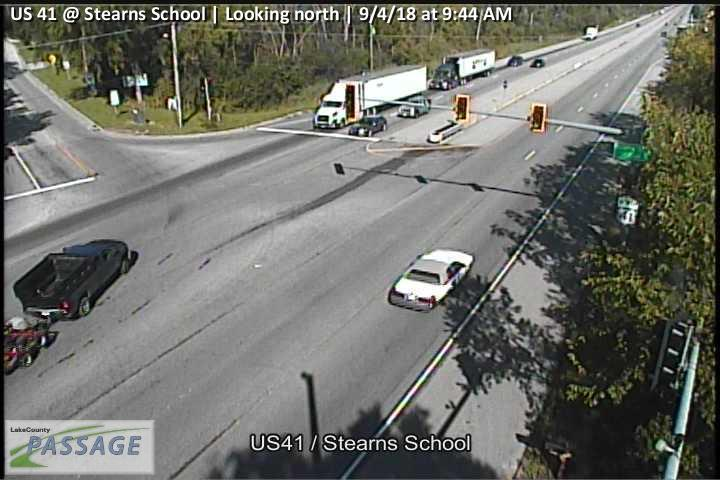SUV: (348, 114, 388, 137), (396, 94, 431, 119), (508, 54, 524, 68)
Sedan: (387, 248, 475, 313), (528, 55, 547, 69)
Truck: (1, 239, 133, 373), (312, 64, 426, 130), (431, 47, 495, 90), (583, 24, 600, 41)
